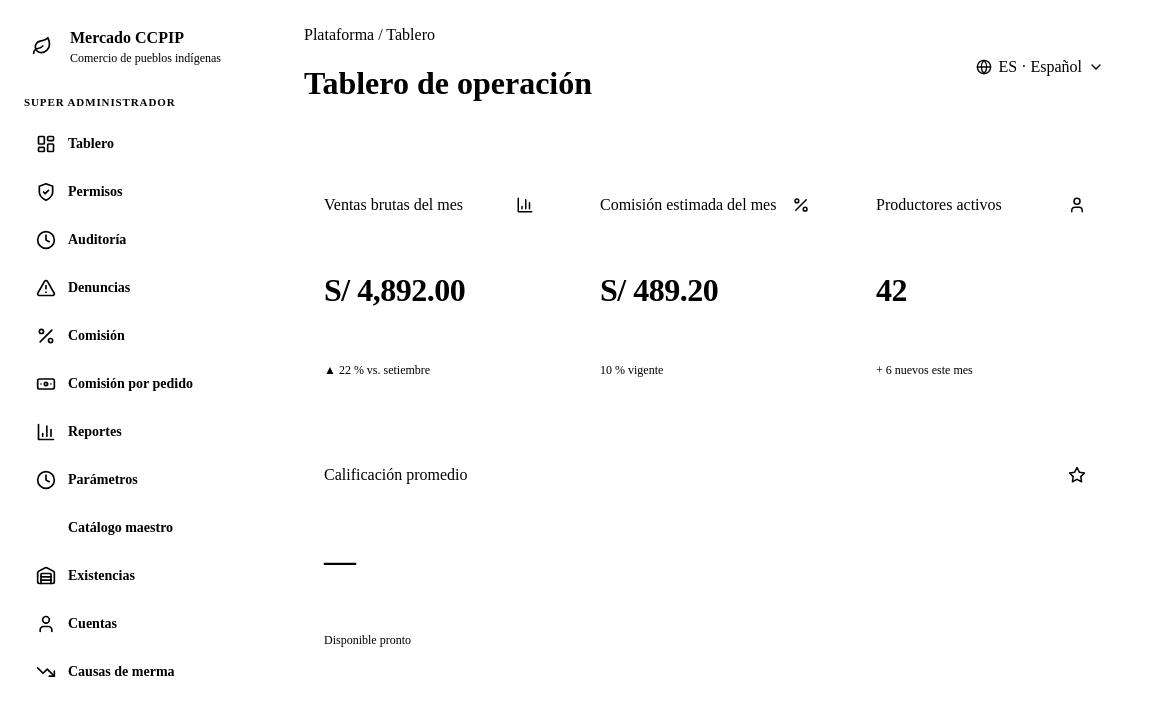
Test: CCPIP-354 Existencias agregadas de los puntos de acopio › se llega desde el menu y muestra los totales, cada punto y cada linea por unidad
The image size is (1152, 713).
Click the link "Existencias" at (85, 576), box left=36, top=566, right=135, bottom=586
(page scrolled)
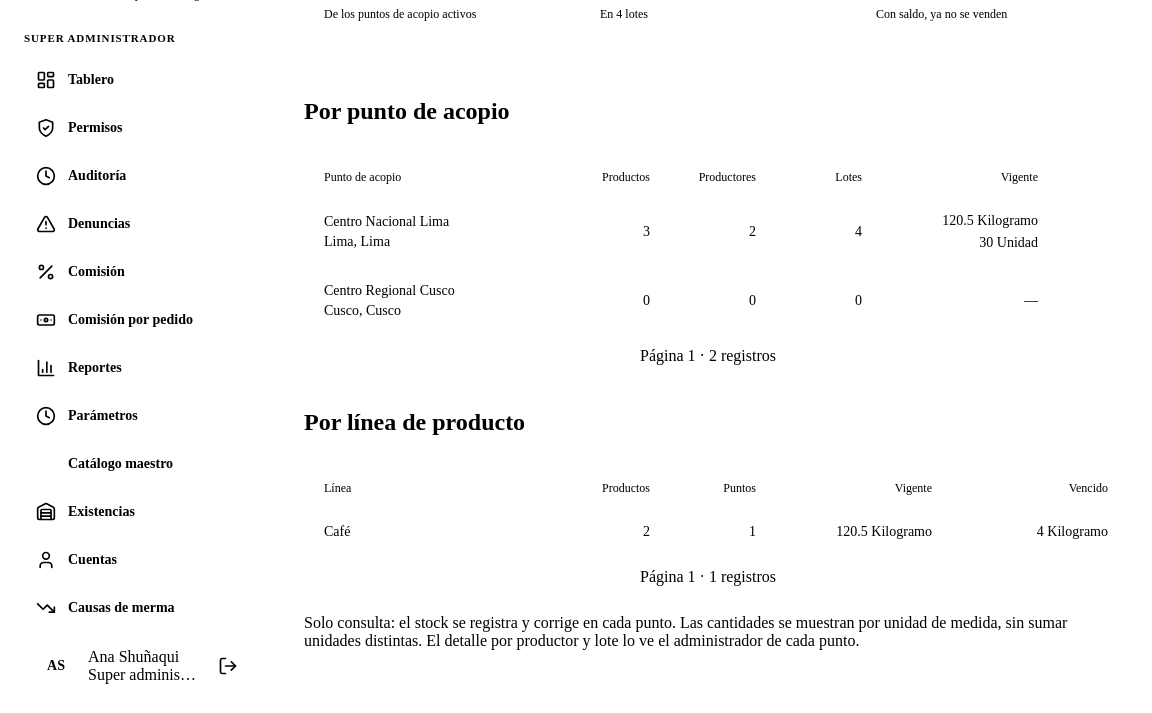
Now the element "Productos en acopio" shows "En 4 lotes", box left=600, top=7, right=648, bottom=21
Now the list item "120.5 Kilogramo" in the row of "Centro Nacional Lima" is shown, box left=942, top=213, right=1038, bottom=228
Now the list item "30 Unidad" is shown, box left=979, top=235, right=1038, bottom=250
